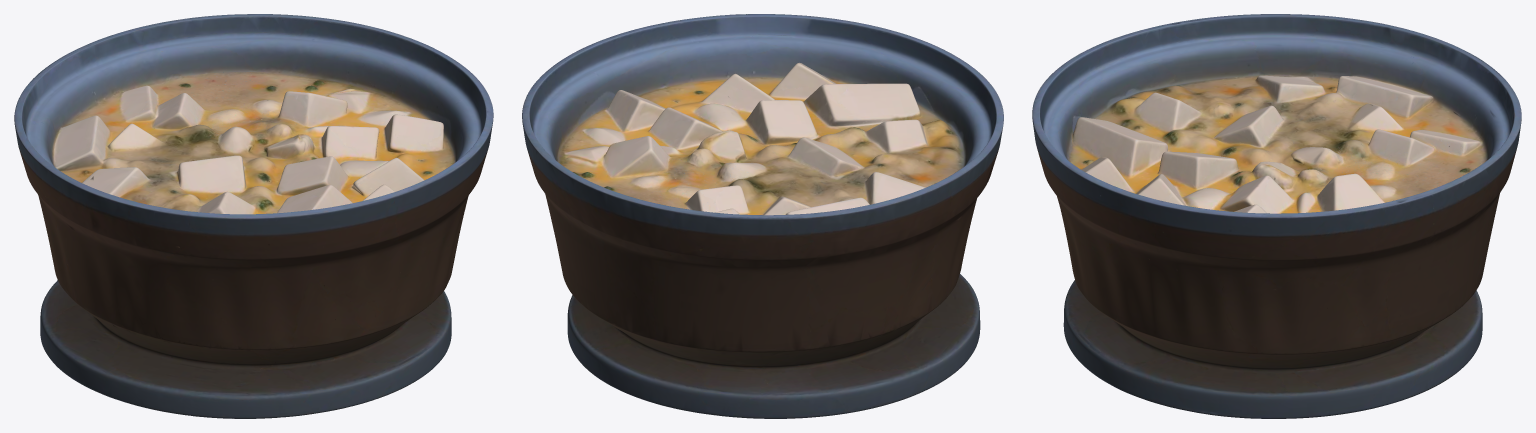
The model's file is Crab Roe Tofu.glb.
3 renders of one model, left to right at view 1: azimuth 30°, elevation 25°; view 2: azimuth 150°, elevation 25°; view 3: azimuth 270°, elevation 25°, orthographic. The views are drawn at different scales.
Parts seen in each view (by area): view 1: material; view 2: material; view 3: material.
Boxes of the visible parts, box(x1,y1,x2,y2) form: material: box(14, 14, 493, 418); material: box(522, 14, 1003, 418); material: box(1032, 14, 1521, 418).
Bounding box in the file's own units: 1.07 × 0.5405 × 1.07.
Materials: 1 (1 with a texture image).
